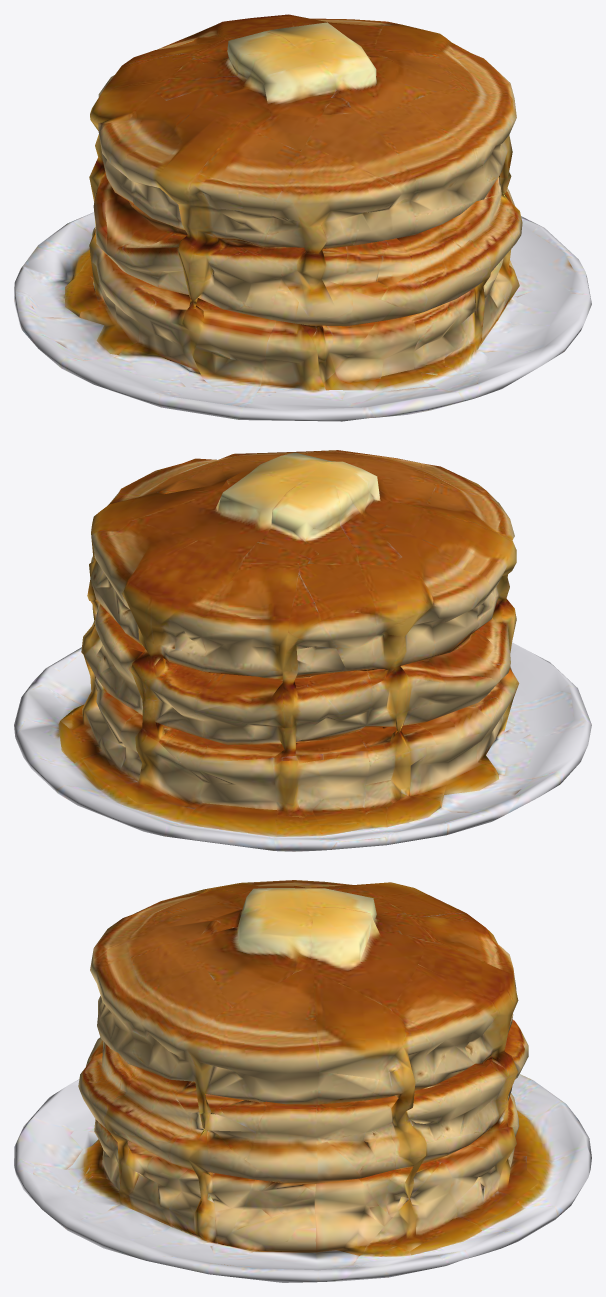
Rendered from pancake-stack.glb.
3 renders of one model, top to bottom at view 1: azimuth 30°, elevation 25°; view 2: azimuth 150°, elevation 25°; view 3: azimuth 270°, elevation 25°, orthographic.
Visible parts, largest first — view 1: mesh_node; view 2: mesh_node; view 3: mesh_node.
Boxes of the visible parts, box(x1,y1,x2,y2) form: mesh_node: box(14, 14, 591, 421); mesh_node: box(14, 450, 591, 851); mesh_node: box(14, 880, 591, 1282).
Size of the model in its own units: 0.2193 by 0.1117 by 0.2193.
Materials: 1 (1 with a texture image).
